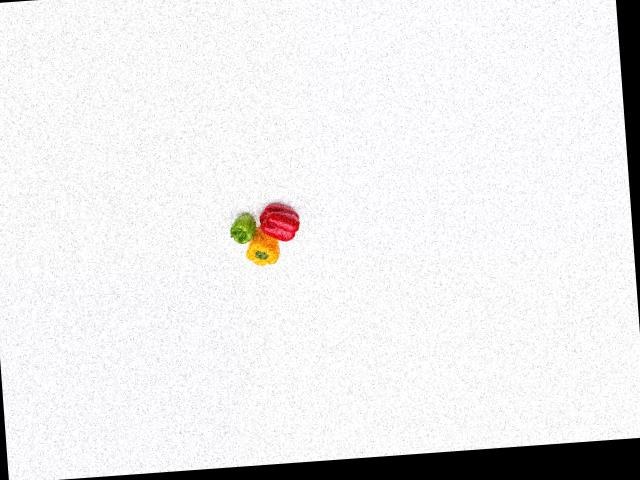bell_pepper: (221, 211, 258, 247)
